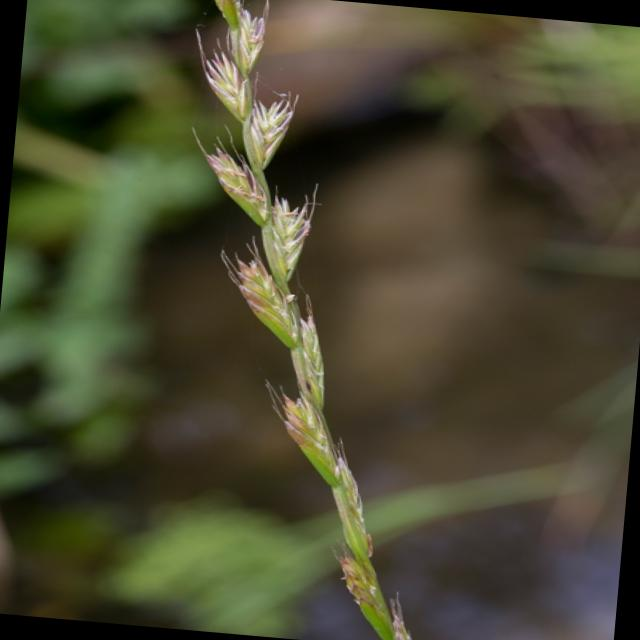Lolium: (138, 0, 472, 640)
